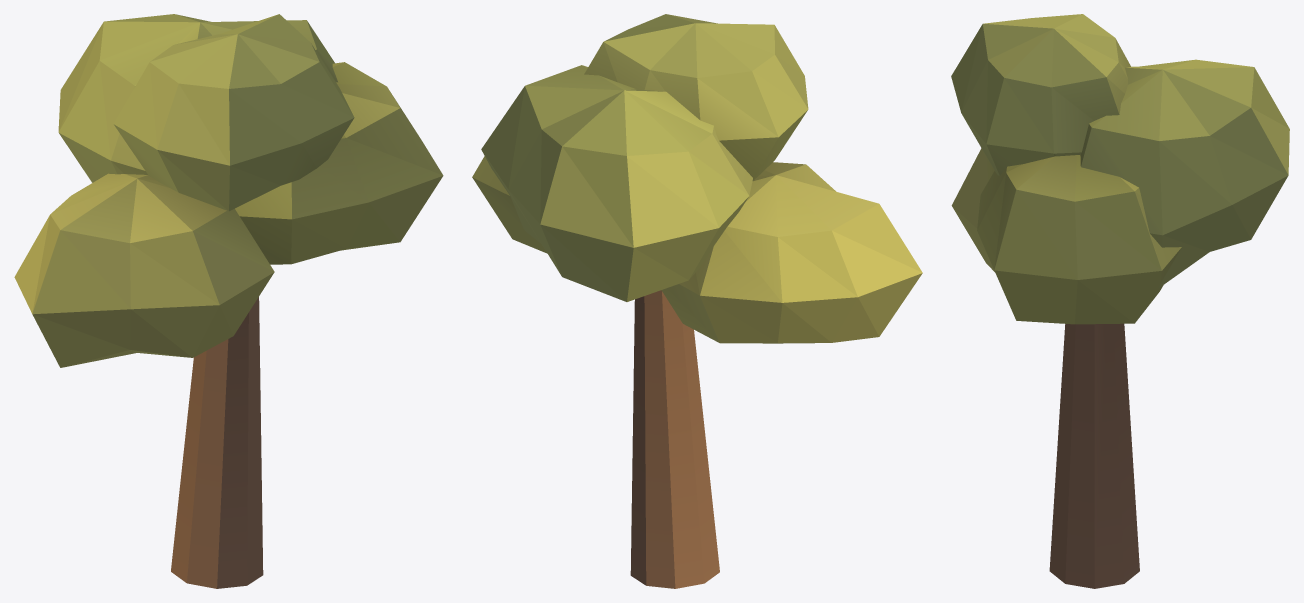
File: forage_6_summer.glb
The picture shows the model from 3 angles, left to right: view 1: azimuth 30°, elevation 25°; view 2: azimuth 150°, elevation 25°; view 3: azimuth 270°, elevation 25°; orthographic projection. The views are drawn at different scales.
Visible parts, largest first — view 1: Rohstoff 6 · summer; view 2: Rohstoff 6 · summer; view 3: Rohstoff 6 · summer.
Boxes of the visible parts, x1,y1,x2,y2 form: Rohstoff 6 · summer: (14, 14, 443, 588); Rohstoff 6 · summer: (472, 14, 922, 588); Rohstoff 6 · summer: (951, 14, 1289, 588).
Size of the model in its own units: 2.76 by 3.51 by 1.99.
